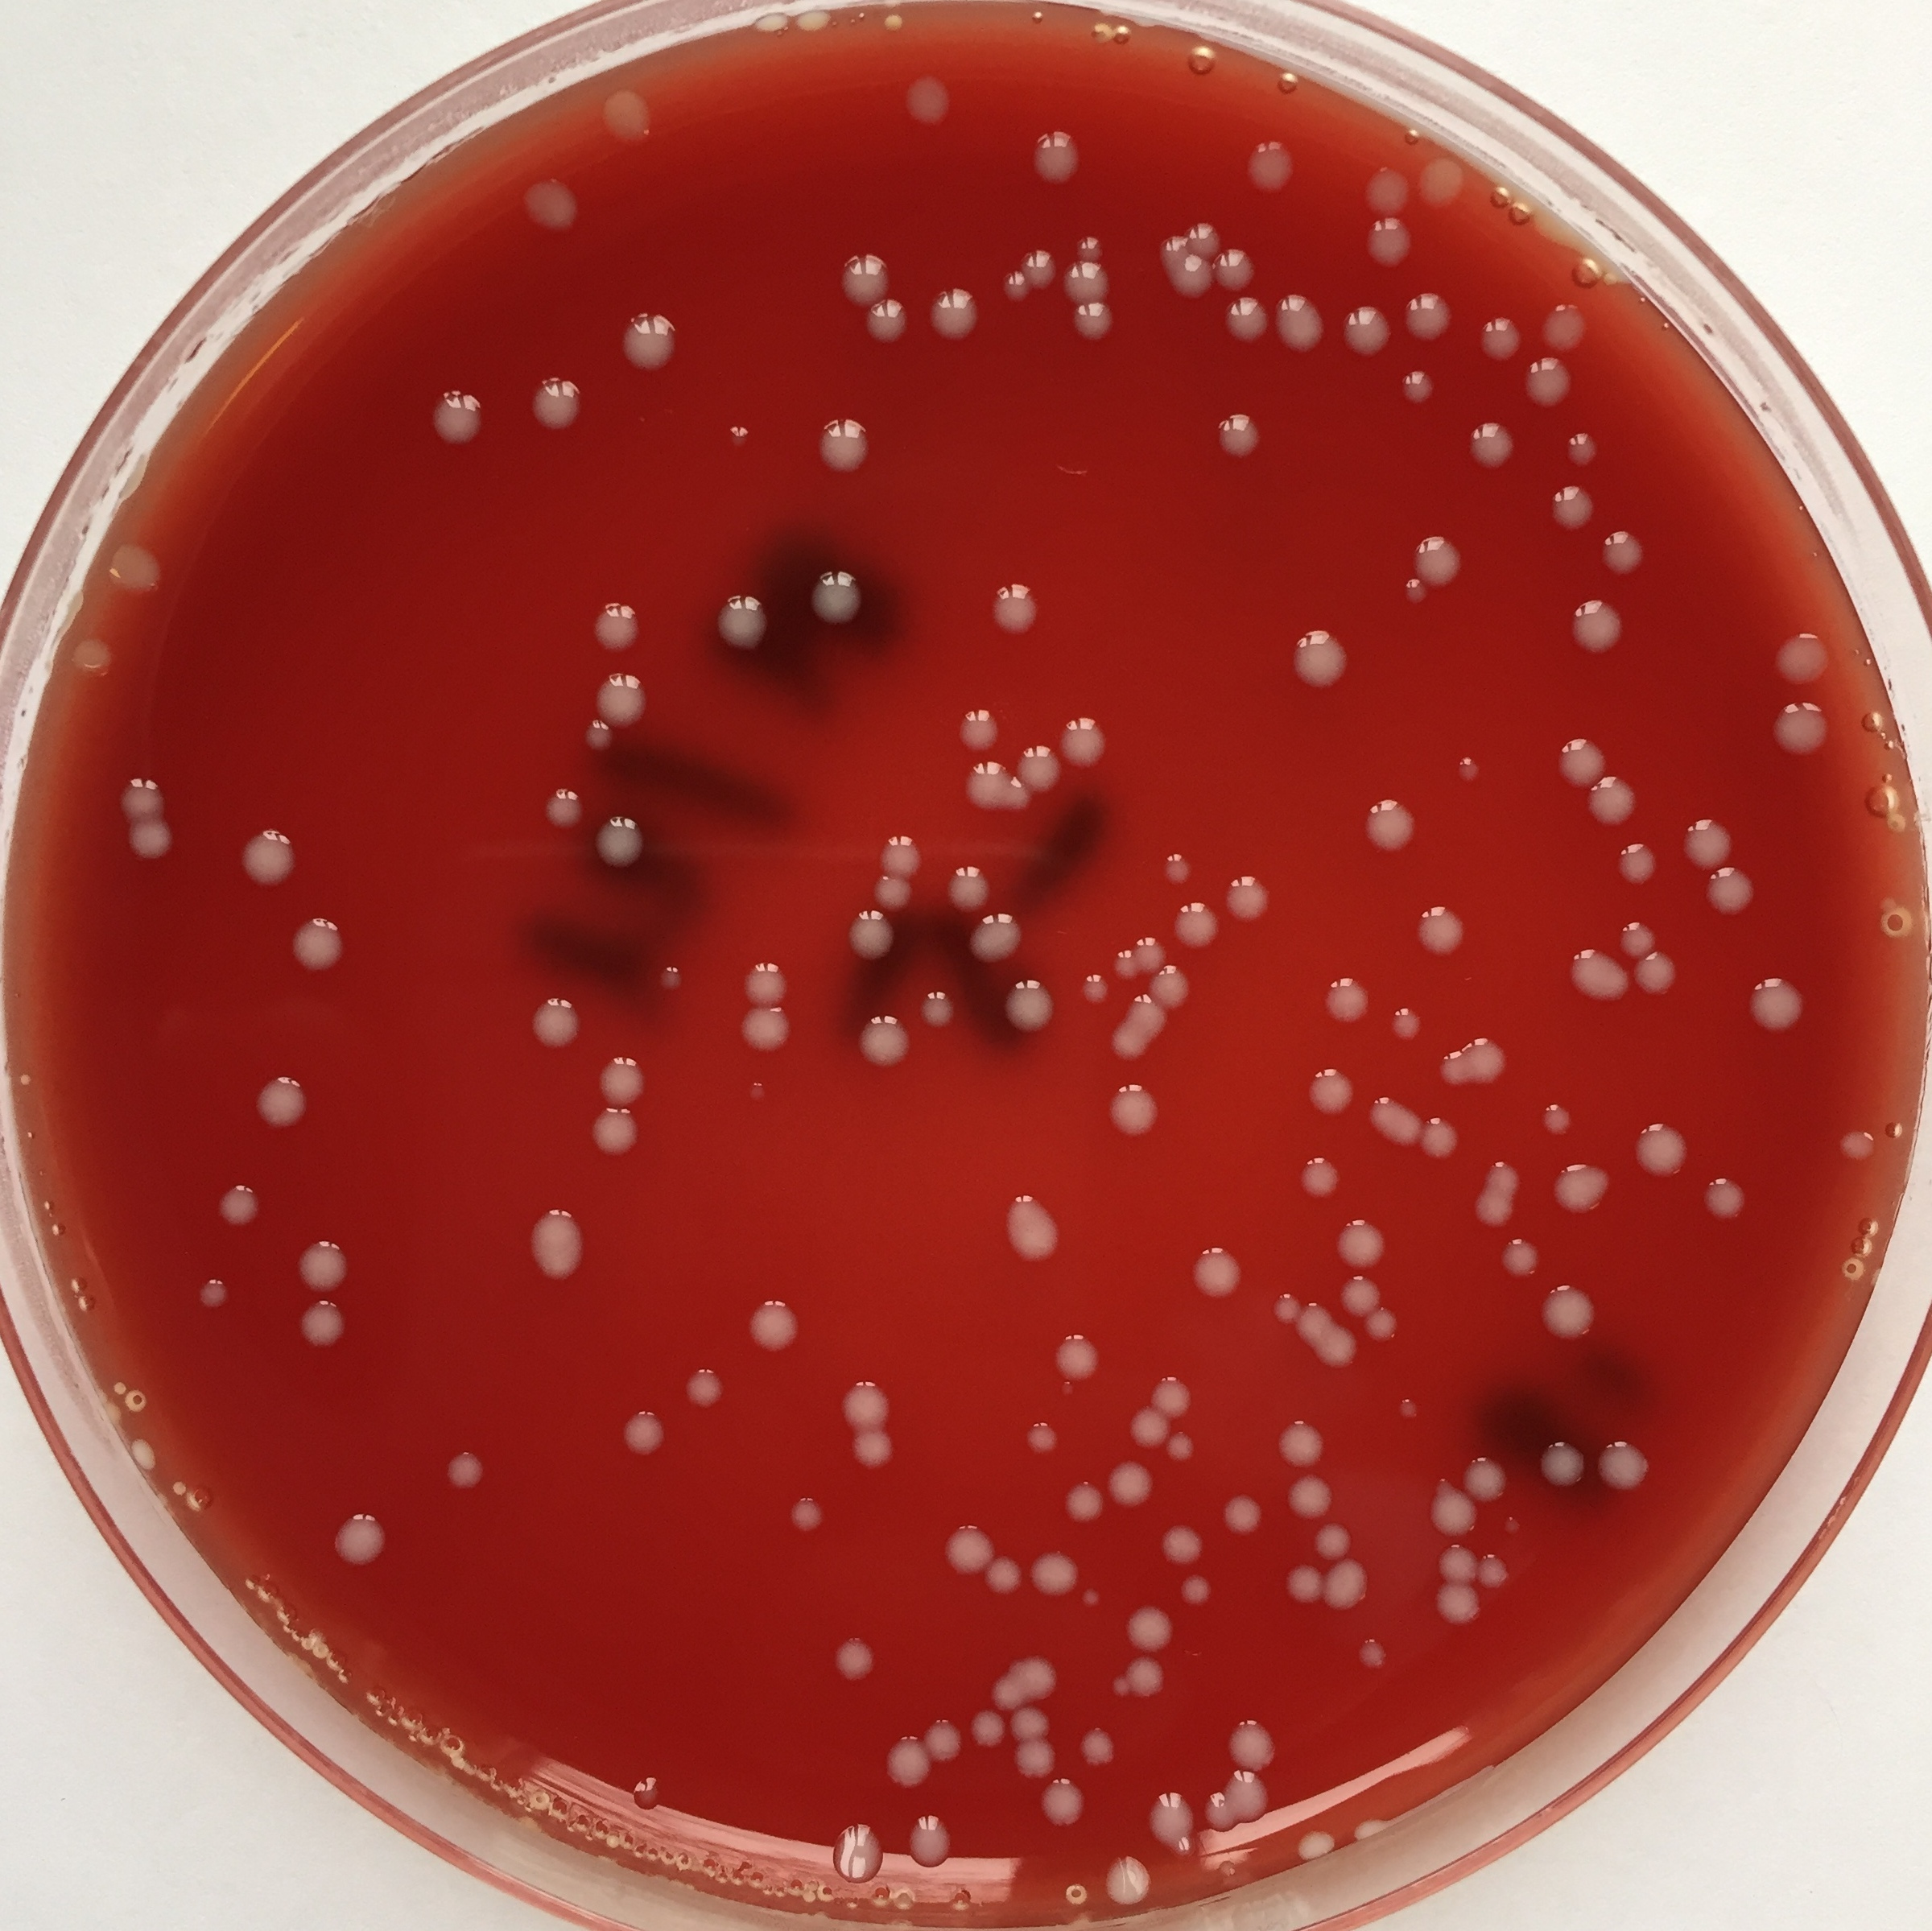sp22: (1734, 973, 1856, 1057), (987, 1183, 1077, 1286), (610, 292, 695, 382), (518, 1195, 593, 1294), (796, 562, 885, 642), (90, 522, 182, 598), (223, 819, 299, 907), (1283, 614, 1357, 702), (1629, 1112, 1707, 1194), (968, 571, 1051, 647), (807, 1614, 890, 1691), (1173, 1238, 1251, 1316), (292, 907, 357, 996), (589, 80, 665, 156), (1016, 115, 1093, 189), (1824, 1109, 1905, 1179), (711, 587, 780, 667), (717, 999, 816, 1054), (524, 170, 589, 251), (895, 1804, 961, 1885), (423, 371, 478, 467), (1343, 787, 1422, 852), (1550, 1158, 1619, 1233), (830, 1805, 886, 1894), (1405, 893, 1476, 964), (1329, 1202, 1403, 1270), (575, 1109, 658, 1167), (318, 1505, 389, 1570), (1235, 133, 1306, 198), (1440, 1024, 1511, 1089), (524, 368, 586, 442), (584, 596, 660, 656), (1099, 997, 1166, 1063), (1598, 1425, 1660, 1496), (1764, 697, 1835, 759), (895, 69, 961, 134), (589, 665, 653, 732), (520, 987, 589, 1049), (1422, 1469, 1483, 1540), (1097, 1077, 1169, 1135), (814, 410, 870, 485), (1417, 513, 1474, 587), (589, 813, 653, 879), (1767, 624, 1833, 688), (288, 1238, 357, 1298), (925, 271, 977, 350), (962, 757, 1028, 819), (743, 1293, 803, 1360), (826, 1376, 904, 1425), (1527, 1434, 1589, 1496), (248, 1077, 311, 1137), (1000, 969, 1060, 1033), (1571, 598, 1635, 658), (1543, 479, 1606, 539), (1295, 1063, 1359, 1123), (212, 1176, 264, 1250), (1269, 288, 1325, 355), (1138, 1790, 1192, 1858), (1431, 1581, 1491, 1643), (1564, 944, 1628, 1003), (288, 1300, 354, 1356), (1288, 1144, 1345, 1210), (1543, 1280, 1599, 1346), (1201, 405, 1270, 458), (1704, 868, 1762, 930), (839, 240, 895, 304), (780, 1473, 830, 1546), (1267, 1409, 1332, 1464), (442, 1439, 494, 1508), (679, 1355, 729, 1425), (1460, 417, 1522, 474), (1700, 1167, 1755, 1231), (851, 1008, 906, 1072), (586, 1050, 651, 1103), (964, 909, 1030, 962), (1023, 1546, 1081, 1604), (1097, 1850, 1157, 1906), (117, 817, 179, 872), (839, 1431, 909, 1478), (1221, 1713, 1286, 1765), (1359, 159, 1417, 216), (534, 778, 589, 838), (931, 1521, 991, 1576), (1292, 1807, 1341, 1873), (106, 771, 173, 819), (619, 1399, 671, 1461), (1635, 950, 1686, 1011), (1414, 149, 1463, 212), (734, 958, 805, 1003), (881, 1726, 929, 1791), (1277, 1473, 1343, 1521), (1315, 967, 1369, 1024), (1541, 301, 1596, 357), (1364, 1093, 1421, 1148), (1583, 773, 1640, 828), (1062, 711, 1115, 769), (1557, 727, 1608, 787), (1224, 870, 1272, 934), (1479, 1234, 1553, 1275), (1040, 1328, 1106, 1374), (1035, 1779, 1092, 1832), (1345, 297, 1396, 355), (1207, 1491, 1267, 1540), (568, 709, 623, 762), (1111, 1653, 1166, 1706), (1221, 301, 1274, 355), (1322, 1563, 1378, 1614), (67, 631, 126, 681), (1364, 1305, 1419, 1356), (1399, 286, 1451, 341), (1366, 216, 1421, 267), (1681, 806, 1736, 858), (1157, 1521, 1212, 1570), (1051, 1478, 1108, 1526), (1599, 523, 1647, 580), (1102, 1464, 1161, 1510), (1313, 1324, 1359, 1383), (1463, 1439, 1507, 1500), (1122, 1604, 1173, 1655), (876, 826, 927, 877), (1017, 1408, 1065, 1462), (1169, 904, 1224, 951), (1226, 1770, 1272, 1827), (851, 904, 897, 960), (1058, 258, 1118, 301), (945, 858, 994, 909), (736, 0, 791, 46), (1460, 1188, 1514, 1234), (1525, 359, 1580, 405), (862, 301, 911, 350), (1007, 1736, 1056, 1786), (1348, 1627, 1398, 1676), (1343, 1797, 1392, 1846), (1118, 1404, 1171, 1450), (1438, 746, 1484, 799), (925, 1705, 957, 1781), (1389, 568, 1438, 615), (619, 1767, 662, 1821), (1215, 246, 1263, 294), (913, 985, 959, 1034), (959, 702, 1005, 752), (1610, 843, 1663, 886), (1341, 1273, 1382, 1328), (1012, 1650, 1060, 1696), (1378, 994, 1424, 1042), (786, 0, 835, 44), (1396, 368, 1440, 417), (1169, 256, 1214, 306), (1472, 1544, 1514, 1595), (1021, 233, 1054, 297), (1076, 1721, 1115, 1775), (1198, 1767, 1228, 1837), (188, 1275, 232, 1323), (1148, 1374, 1196, 1418), (1010, 1696, 1058, 1740), (1150, 960, 1194, 1008), (964, 1710, 1007, 1759), (1431, 1540, 1483, 1581), (1534, 1096, 1585, 1137), (1017, 739, 1060, 787), (729, 1079, 789, 1112), (1065, 306, 1122, 341), (985, 1554, 1024, 1606), (1277, 1554, 1316, 1606), (1477, 1155, 1529, 1194), (1177, 1568, 1219, 1614), (1422, 1111, 1461, 1160), (1292, 1294, 1327, 1346), (126, 1431, 163, 1478), (874, 872, 913, 916), (1311, 1526, 1357, 1563), (1483, 311, 1518, 359), (980, 1666, 1021, 1706), (1166, 1429, 1205, 1469), (1562, 423, 1603, 462), (1389, 1390, 1433, 1425), (1488, 1508, 1530, 1544), (717, 417, 759, 451), (1615, 918, 1652, 955), (655, 958, 694, 994), (1046, 1370, 1081, 1409), (1270, 1284, 1299, 1328), (1187, 216, 1223, 251), (1157, 845, 1191, 882), (1136, 934, 1164, 971), (1076, 1581, 1109, 1611), (1070, 232, 1108, 258), (1106, 1671, 1131, 1710), (1157, 232, 1185, 265), (1000, 265, 1026, 297), (876, 9, 904, 37), (1081, 971, 1108, 1001), (1111, 950, 1136, 974)
